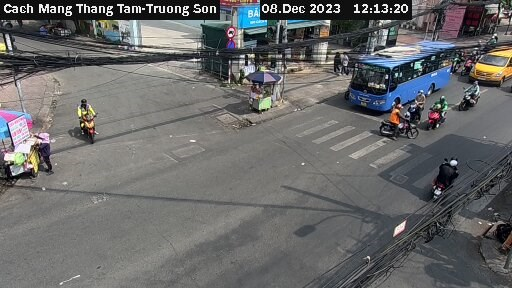bus: (352, 42, 456, 109)
car: (471, 39, 512, 84)
motorbike: (70, 97, 128, 151), (375, 101, 424, 148), (425, 155, 475, 200), (420, 95, 464, 132), (453, 76, 489, 110)
